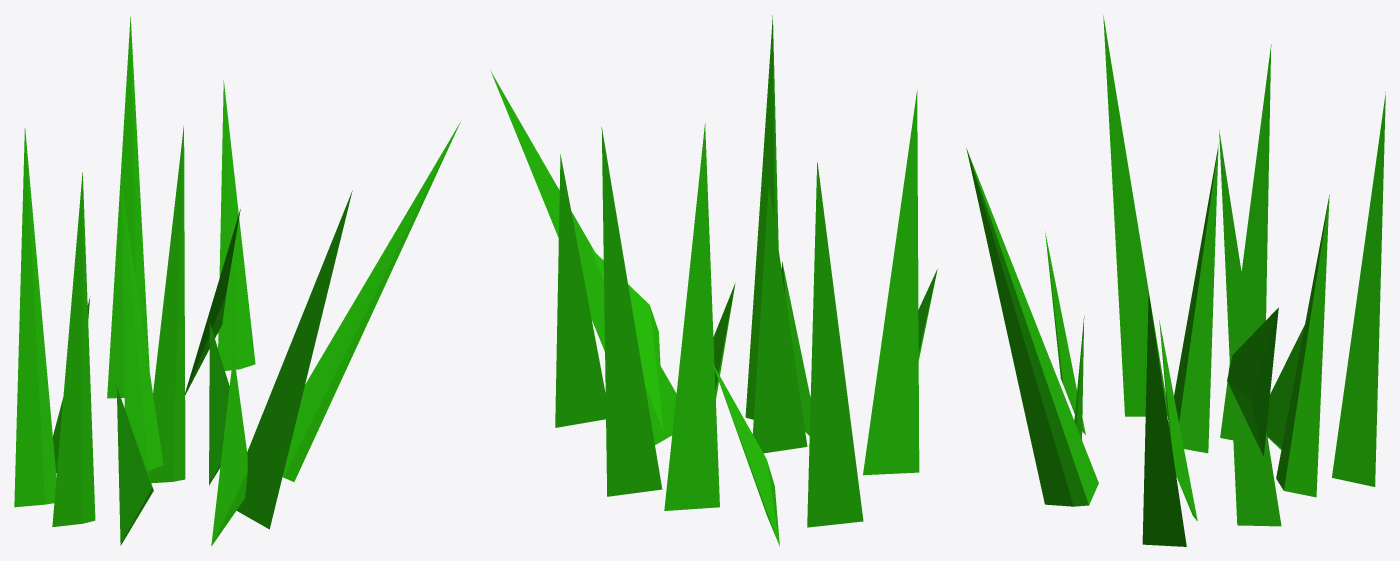
File: Grass1.fbx
3 renders of one model, left to right at view 1: azimuth 30°, elevation 25°; view 2: azimuth 150°, elevation 25°; view 3: azimuth 270°, elevation 25°, orthographic. The views are drawn at different scales.
Visible parts, largest first — view 1: Cube; view 2: Cube; view 3: Cube.
Boxes of the visible parts, x1,y1,x2,y2 form: Cube: (14,16,460,546); Cube: (490,15,937,546); Cube: (966,15,1385,546).
Size of the model in its own units: 278 by 264 by 226.
